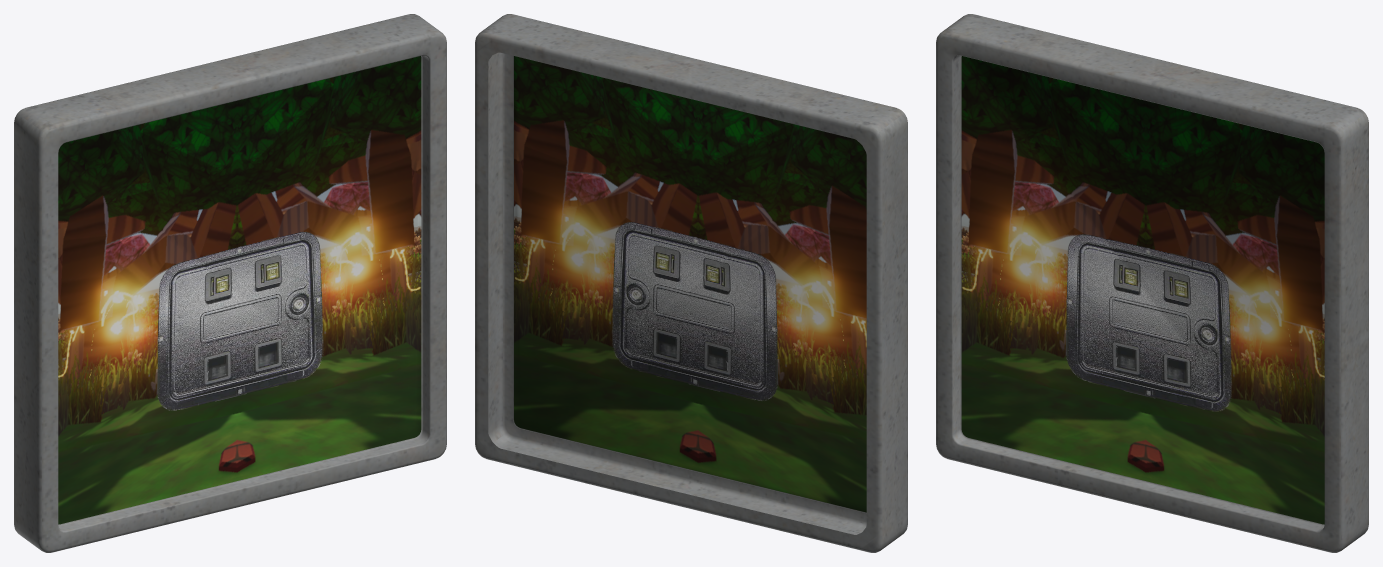
Rendered from Front.fbx.
3 views of the same model, side by side, from view 1: azimuth 30°, elevation 25°; view 2: azimuth 150°, elevation 25°; view 3: azimuth 330°, elevation 25° (orthographic).
Parts seen in each view (by area): view 1: Cube; view 2: Cube; view 3: Cube.
Part boxes in pixels (left/top/right/bottom): Cube: left=14, top=14, right=446, bottom=552; Cube: left=475, top=14, right=907, bottom=552; Cube: left=936, top=14, right=1368, bottom=552.
Bounding box in the file's own units: 220 × 220 × 26.25.
